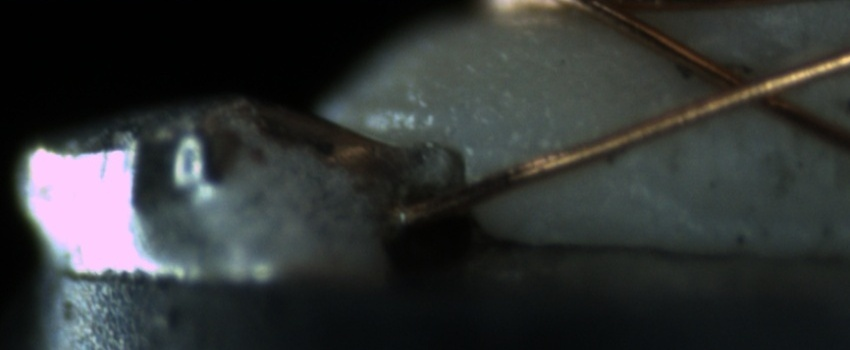CL: (681, 56, 828, 122)
